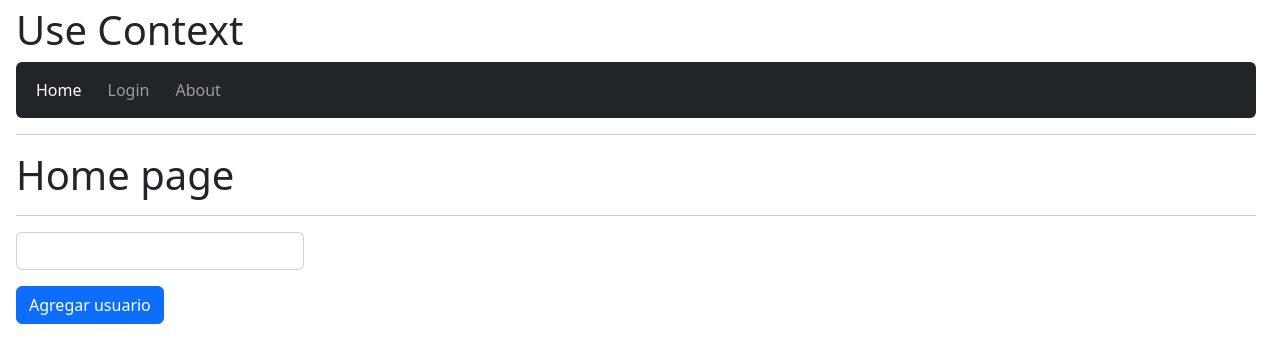
Pruebas en <MainApp/> › debe de mostrar el LoginPage
Click the link "Login": coordinates (128, 90) [108, 79, 149, 101]
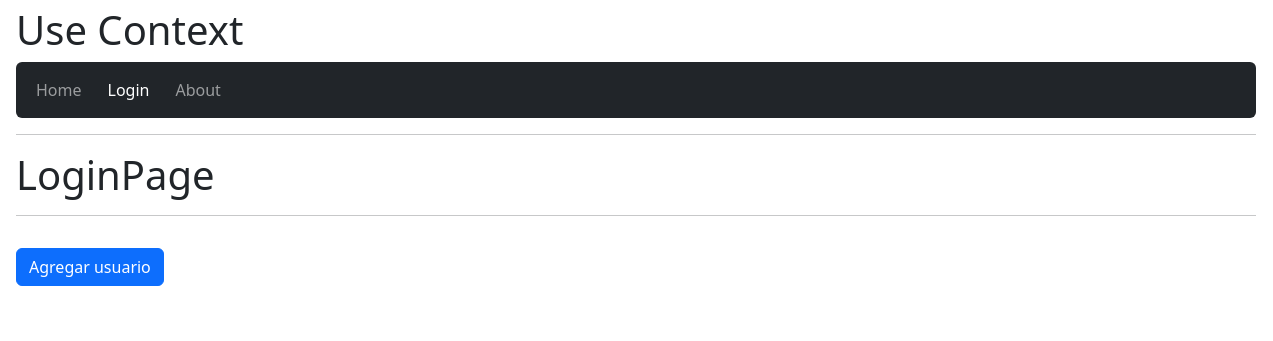
expect the heading "LoginPage" is shown: met, box [16, 147, 215, 202]
